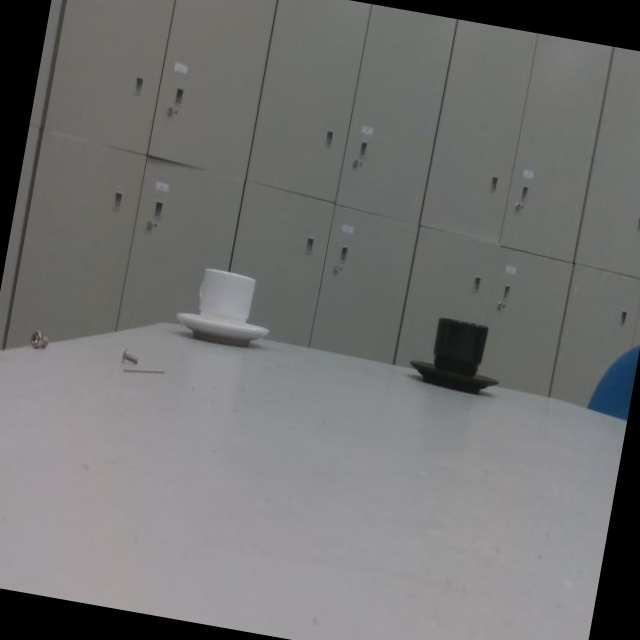black: (409, 306, 502, 401)
white: (176, 268, 271, 357)
